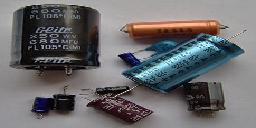Electrolytic-capacitor: (122, 33, 246, 93), (19, 3, 100, 78), (85, 93, 156, 126), (122, 19, 227, 39), (182, 79, 226, 114), (52, 83, 78, 111), (144, 39, 176, 57), (89, 84, 130, 98), (30, 96, 55, 116)
